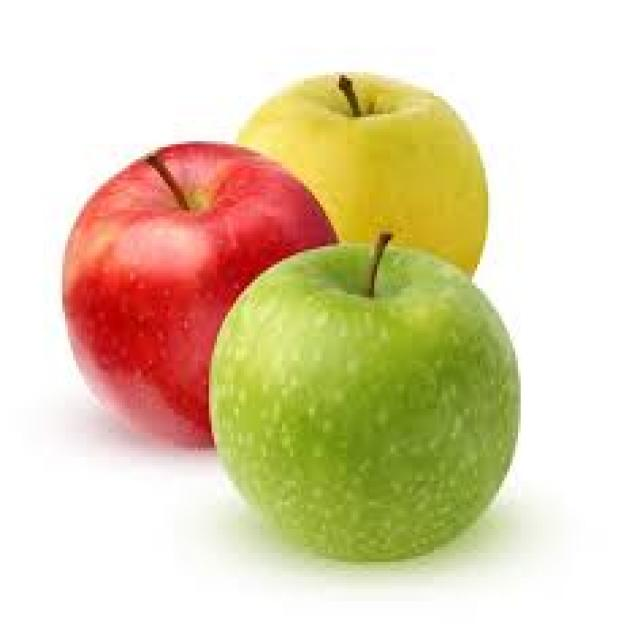non_orange: (189, 238, 544, 592), (221, 67, 548, 393), (46, 117, 371, 443)
